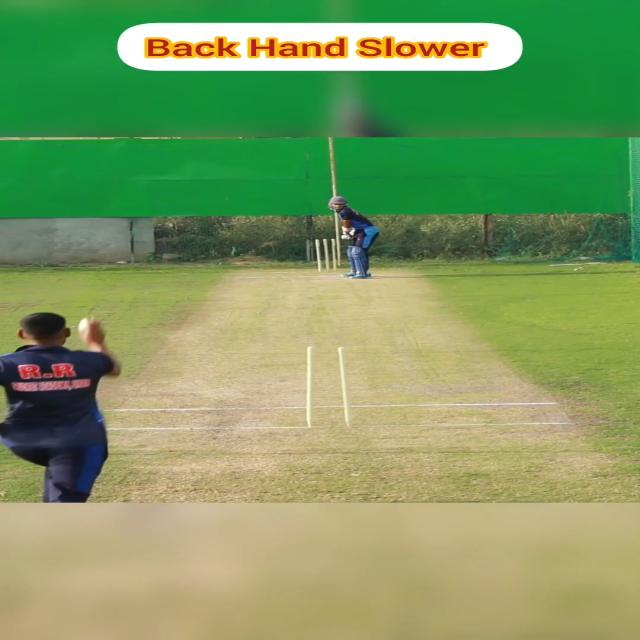stump: (304, 346, 352, 427), (314, 238, 338, 272)
